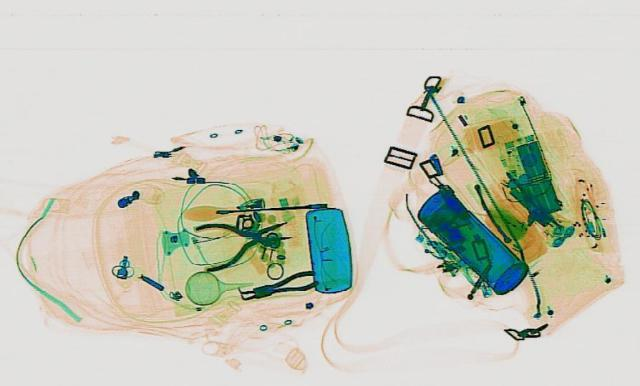Pliers: (180, 209, 306, 270), (232, 267, 324, 302)
